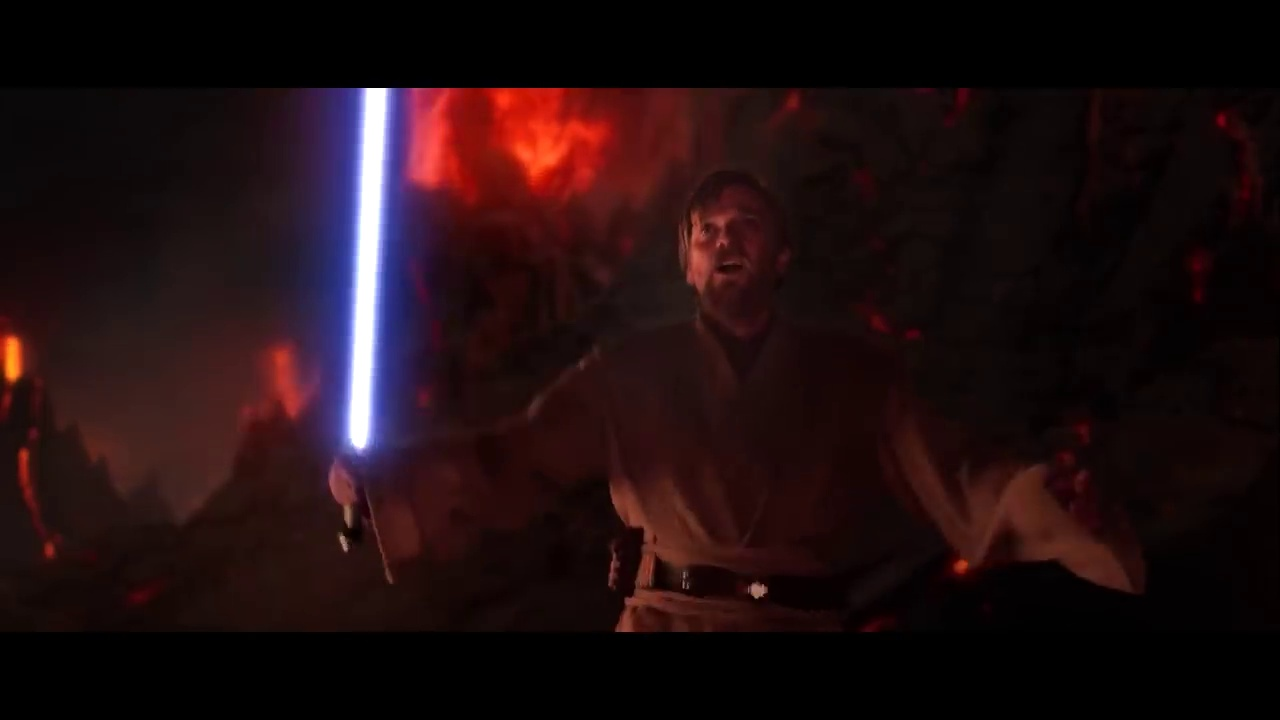lightsaber: (322, 85, 394, 559)
